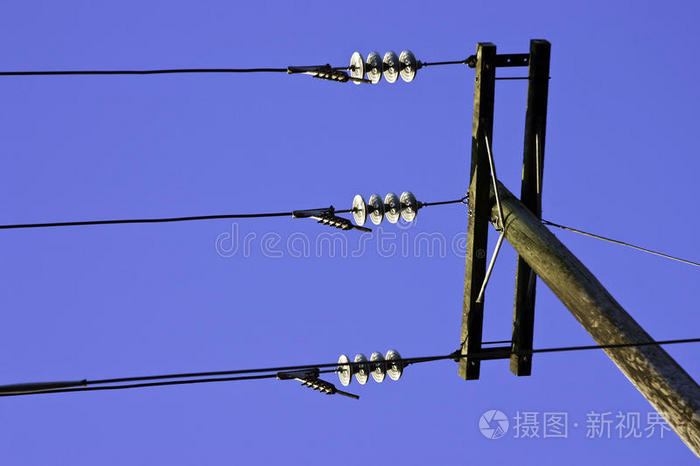insulator: (335, 346, 406, 389), (351, 48, 420, 87), (350, 190, 421, 226)
